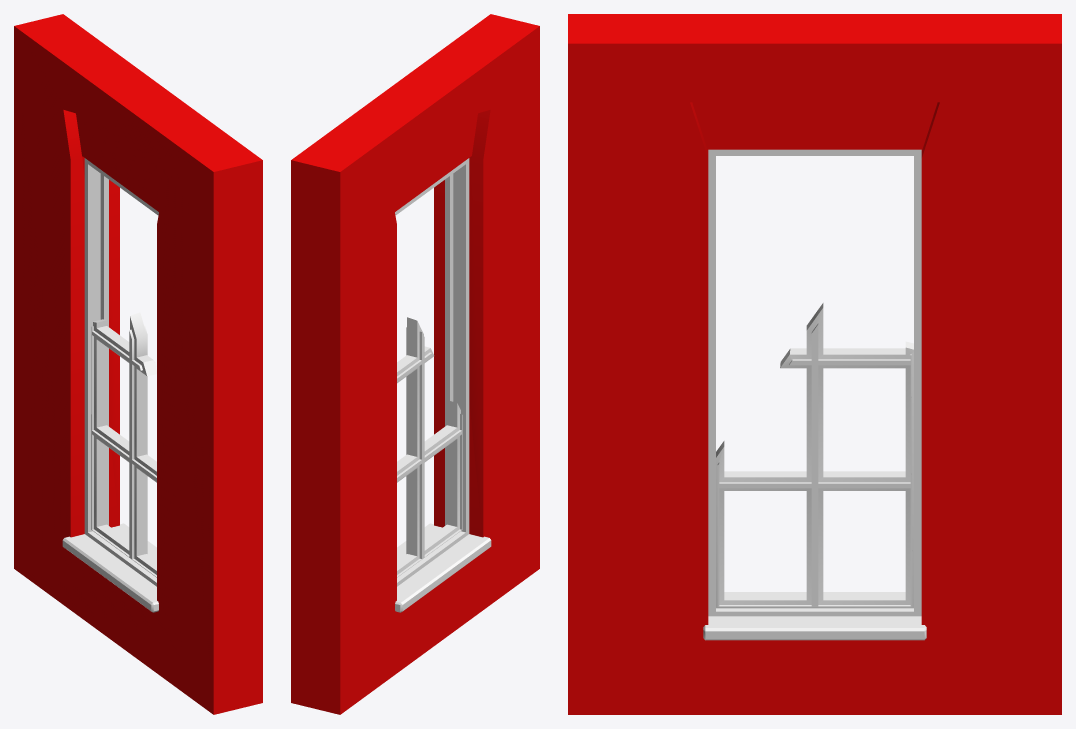
Rendered from Ruins_Wall_Bottom.fbx.
3 views of the same model, side by side, from view 1: azimuth 30°, elevation 25°; view 2: azimuth 150°, elevation 25°; view 3: azimuth 270°, elevation 25° (orthographic). The views are drawn at different scales.
Parts seen in each view (by area): view 1: Ruins_Wall_Bottom; view 2: Ruins_Wall_Bottom; view 3: Ruins_Wall_Bottom.
Part boxes in pixels (x1,y1,x2,y2): Ruins_Wall_Bottom: (14,14,262,714); Ruins_Wall_Bottom: (291,14,539,714); Ruins_Wall_Bottom: (568,14,1061,714).
Bounding box in the file's own units: 0.1822 × 1.5 × 1.
